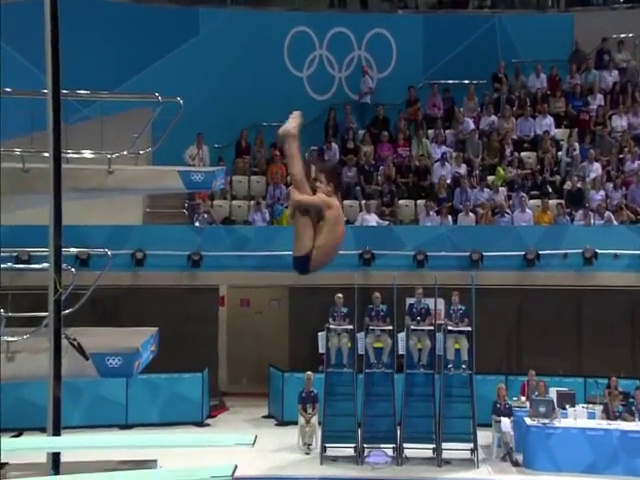diver: (275, 108, 347, 276)
